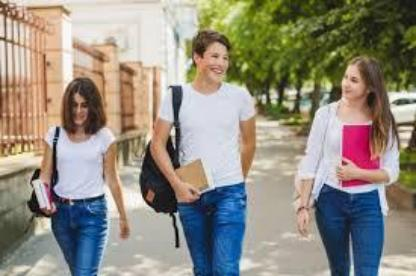person: (140, 26, 262, 276), (292, 51, 403, 276), (24, 70, 132, 276)
